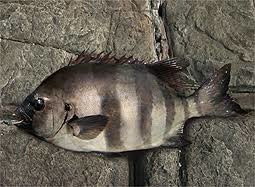azi: (25, 51, 235, 155)
